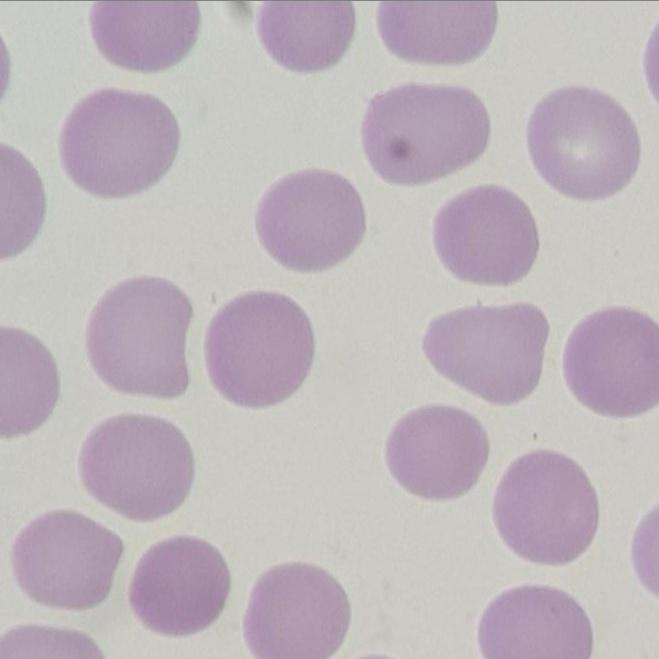Uninfected: (62, 87, 181, 201), (362, 81, 490, 186), (527, 86, 637, 204), (87, 277, 193, 399), (207, 289, 313, 409), (490, 451, 602, 564), (422, 307, 547, 407), (82, 414, 191, 518), (255, 167, 361, 272), (12, 509, 119, 610), (240, 559, 348, 659), (563, 309, 659, 421), (432, 184, 537, 283), (383, 404, 489, 500), (477, 579, 596, 659), (132, 541, 227, 634)
